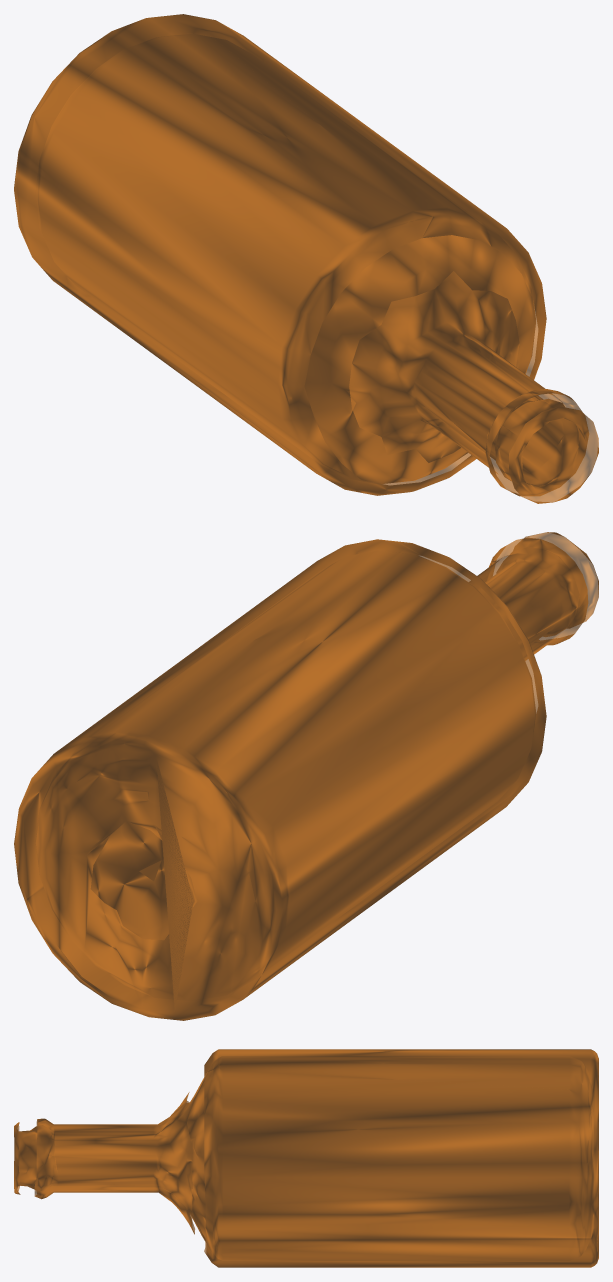
File: model_align.obj
3 views of the same model, one above another, from view 1: azimuth 30°, elevation 25°; view 2: azimuth 150°, elevation 25°; view 3: azimuth 270°, elevation 25° (orthographic). The views are drawn at different scales.
Bounding box in the file's own units: 0.0917 × 0.0917 × 0.2445.
